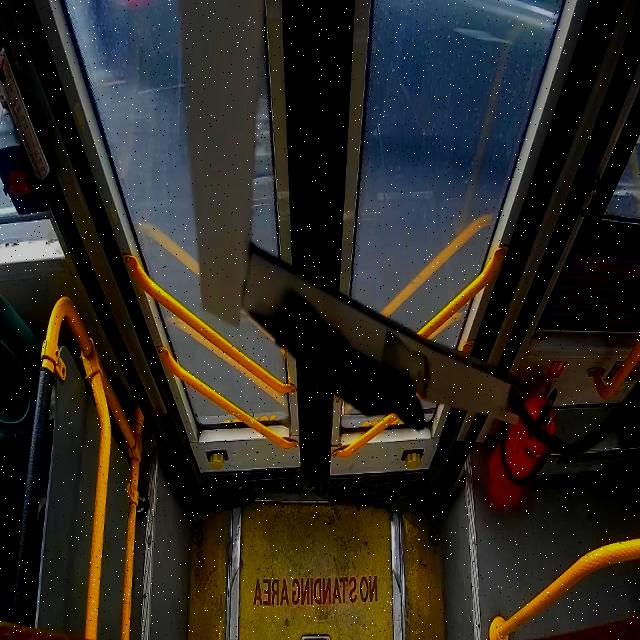close: (64, 3, 566, 489)
